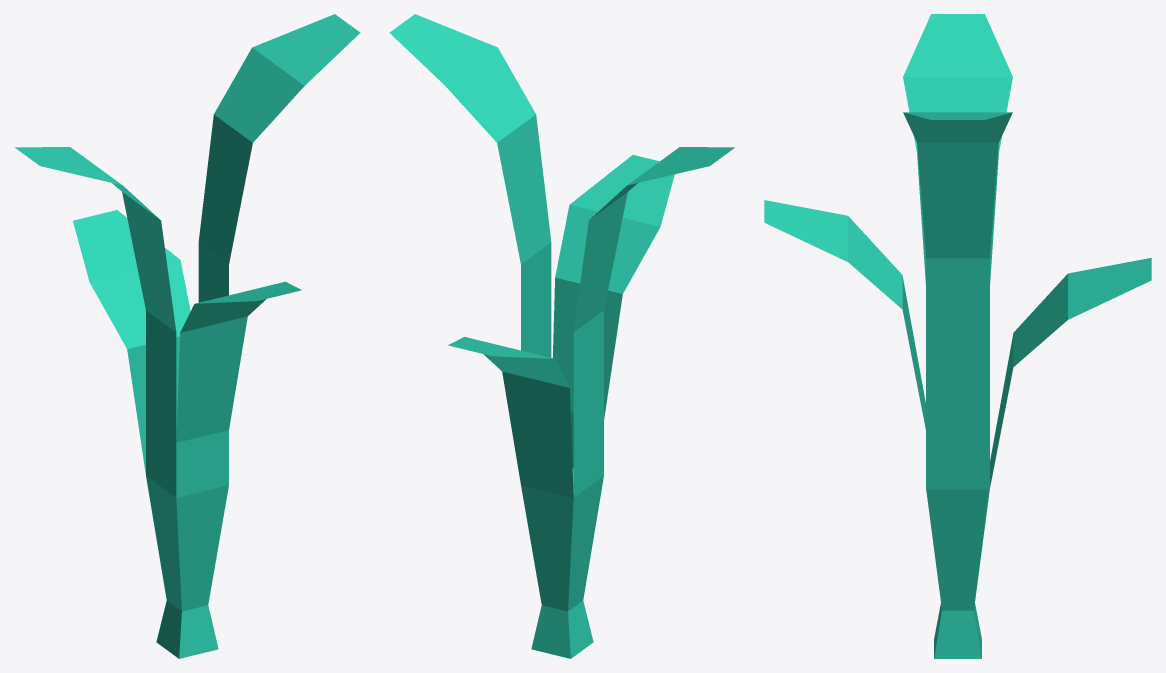
File: crops_leafsStageB.fbx
The picture shows the model from 3 angles, left to right: view 1: azimuth 30°, elevation 25°; view 2: azimuth 150°, elevation 25°; view 3: azimuth 270°, elevation 25°; orthographic projection. The views are drawn at different scales.
Visible parts, largest first — view 1: crops_leafsStageB; view 2: crops_leafsStageB; view 3: crops_leafsStageB.
Part boxes in pixels (left/top/right/bottom): crops_leafsStageB: left=15, top=14, right=360, bottom=658; crops_leafsStageB: left=389, top=14, right=734, bottom=658; crops_leafsStageB: left=764, top=14, right=1151, bottom=658.
Bounding box in the file's own units: 3.89 × 6.77 × 3.89.
